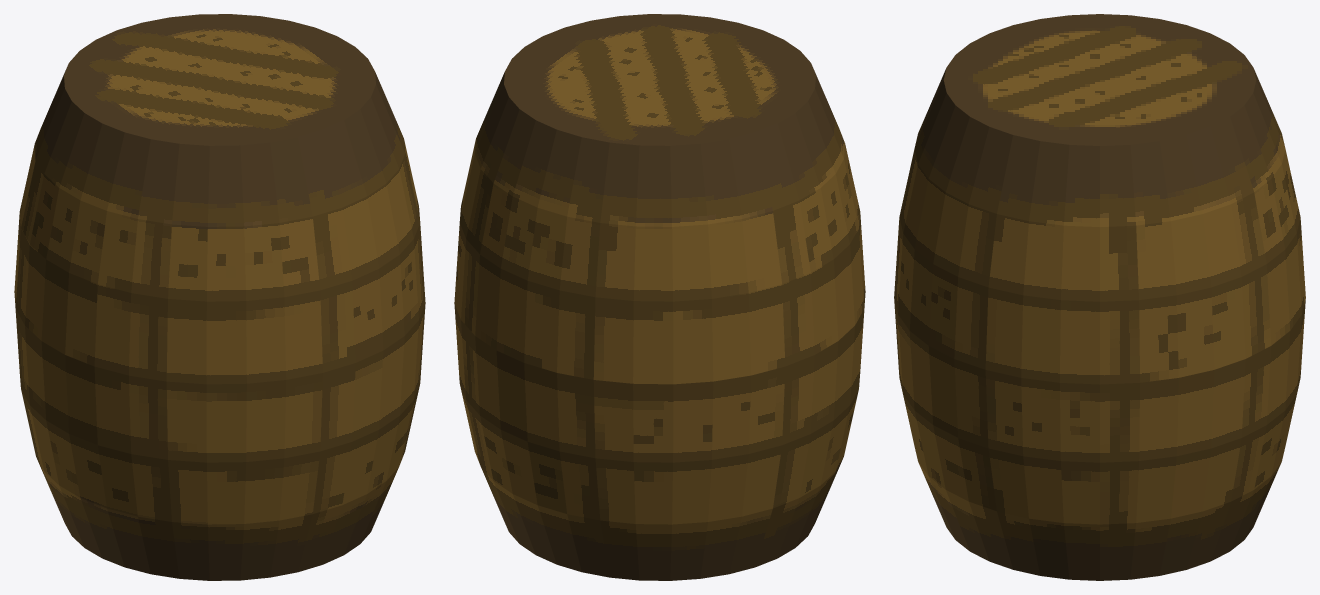
File: Rapture_barrel.glb
The picture shows the model from 3 angles, left to right: view 1: azimuth 30°, elevation 25°; view 2: azimuth 150°, elevation 25°; view 3: azimuth 270°, elevation 25°; orthographic projection.
Parts seen in each view (by area): view 1: Cylinder; view 2: Cylinder; view 3: Cylinder.
Part boxes in pixels (bbox=[...]): Cylinder: bbox=[14, 14, 425, 580]; Cylinder: bbox=[454, 14, 865, 580]; Cylinder: bbox=[894, 14, 1305, 580].
Bounding box in the file's own units: 3.14 × 3.66 × 3.14.
1 material, 1 textured.
